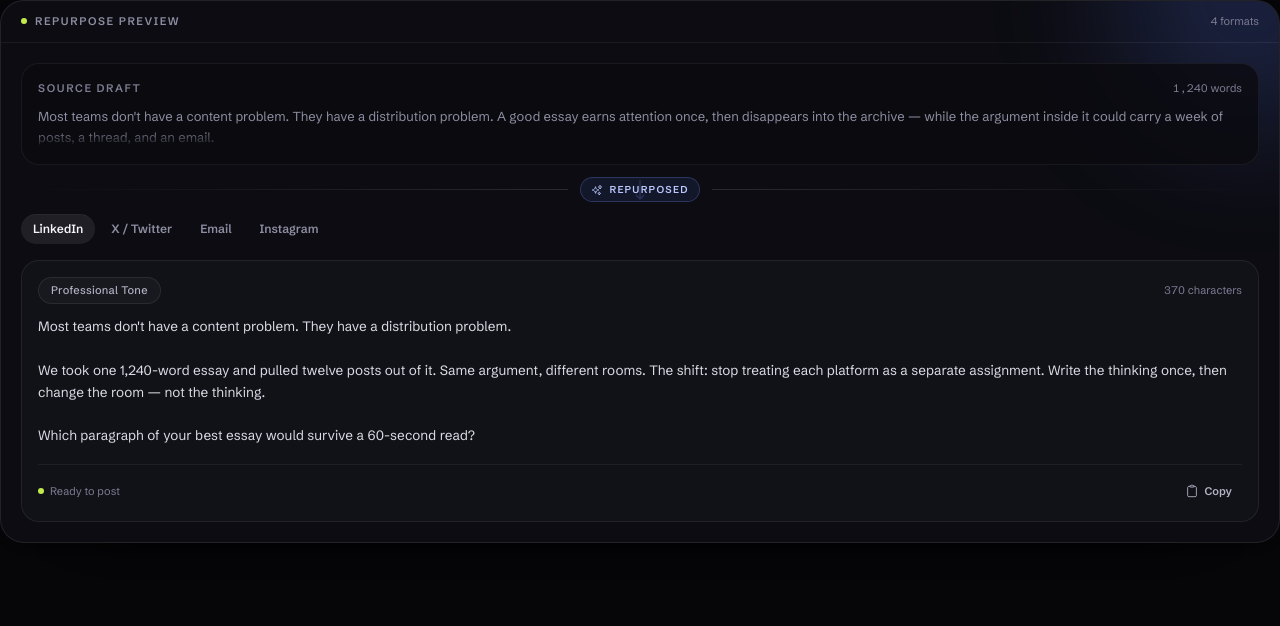
LiveDemo › switches the preview when another platform tab is chosen
Click the tab "X / Twitter" at (142, 229), box [99, 214, 184, 244]
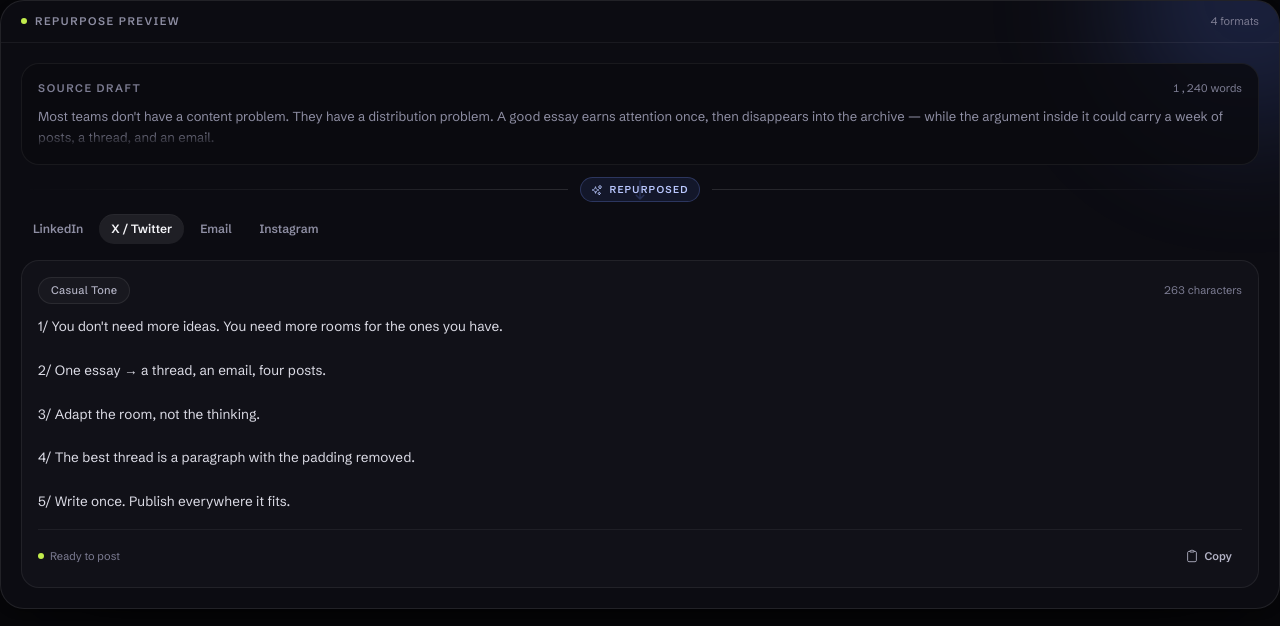
Now the text "You don't need more ideas" is shown, box [38, 318, 503, 509]
